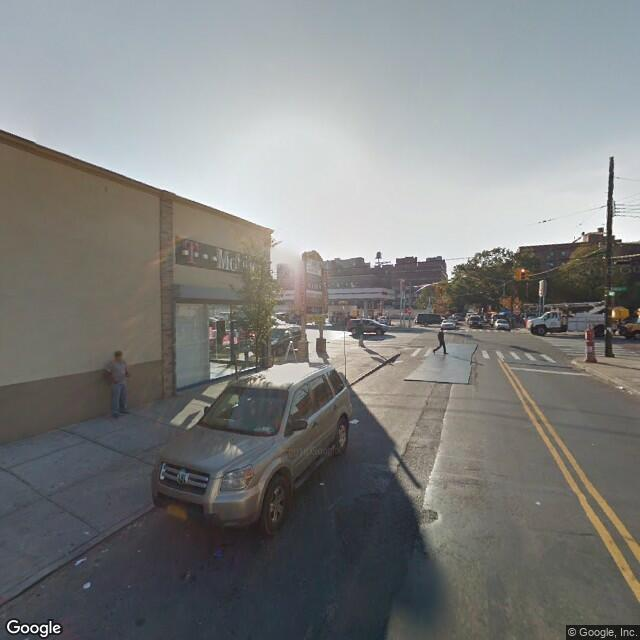litter: (73, 554, 89, 566), (615, 382, 628, 391), (78, 528, 89, 536), (349, 417, 358, 426), (533, 498, 546, 504), (82, 582, 91, 587), (317, 479, 322, 485)
